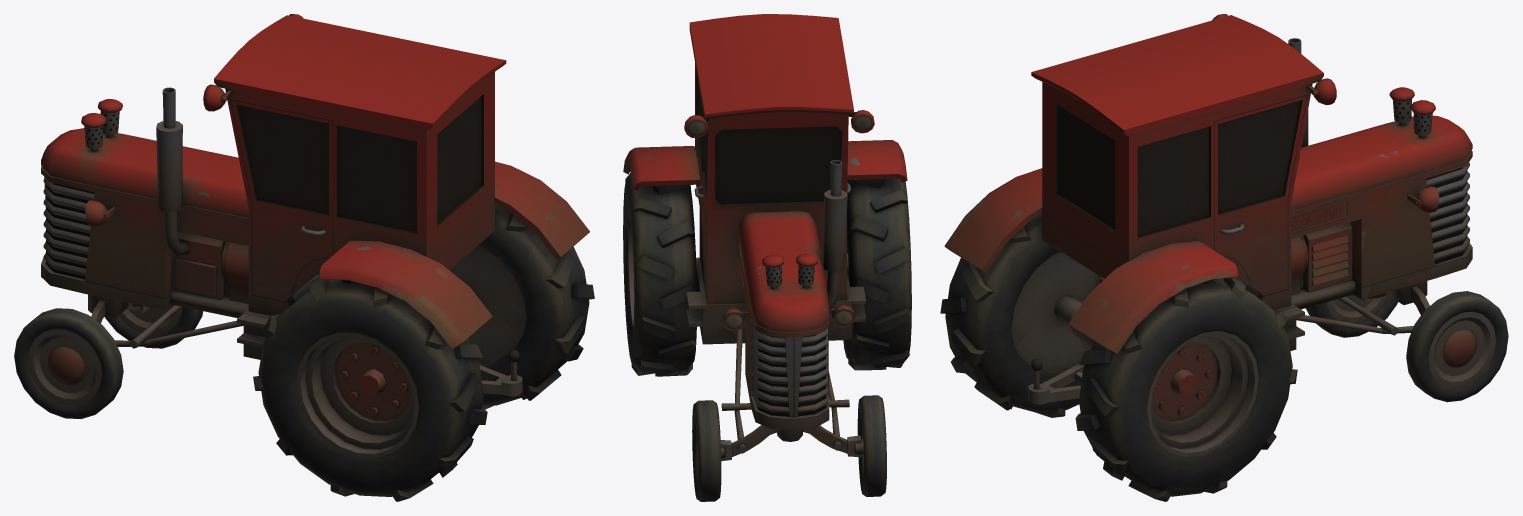
The model's file is tractor_new.dae.
3 renders of one model, left to right at view 1: azimuth 30°, elevation 25°; view 2: azimuth 150°, elevation 25°; view 3: azimuth 270°, elevation 25°, orthographic. The views are drawn at different scales.
Visible parts, largest first — view 1: farmtractor; view 2: farmtractor; view 3: farmtractor.
Boxes of the visible parts, left/top/right/bottom form: farmtractor: left=14, top=14, right=594, bottom=501; farmtractor: left=623, top=14, right=911, bottom=501; farmtractor: left=940, top=14, right=1508, bottom=501.
Size of the model in its own units: 3.65 by 4.17 by 2.96.
1 material, 1 textured.
